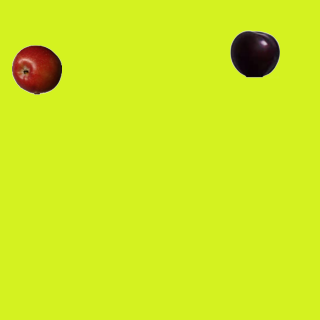Apple Braeburn: (11, 44, 61, 94)
Cherry Wax Black: (229, 28, 279, 78)
